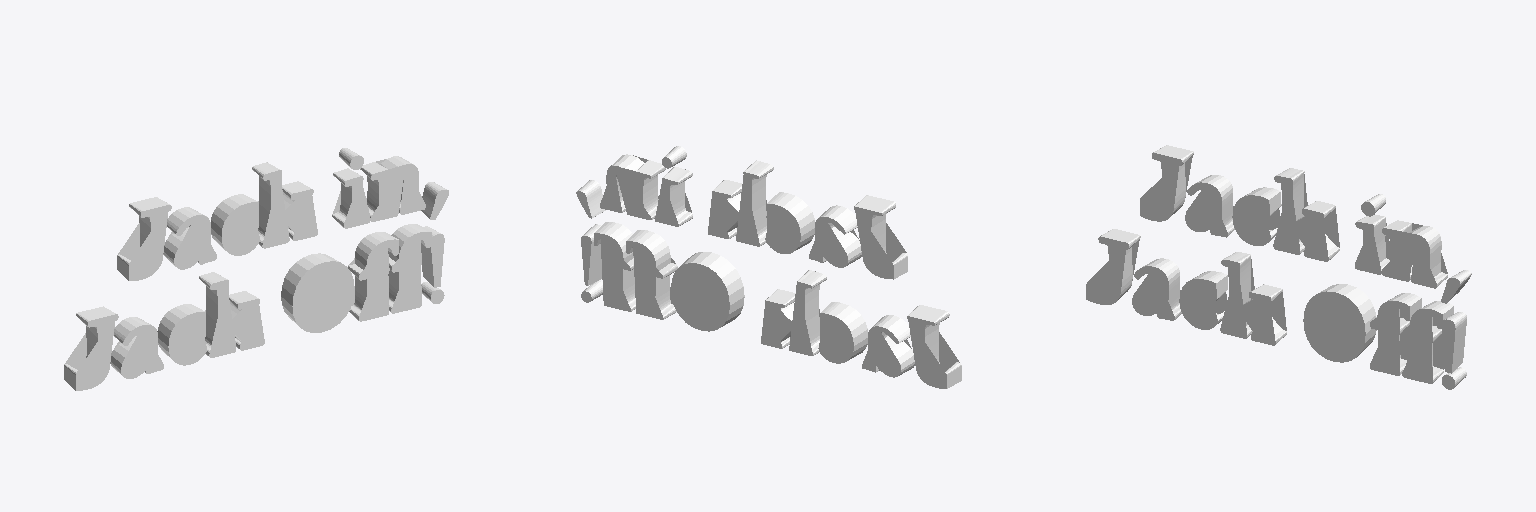
File: jackin_text.obj
3 renders of one model, left to right at view 1: azimuth 30°, elevation 25°; view 2: azimuth 150°, elevation 25°; view 3: azimuth 330°, elevation 25°, orthographic.
Visible parts, largest first — view 1: typeMesh1; view 2: typeMesh1; view 3: typeMesh1.
Boxes of the visible parts, x1,y1,x2,y2 form: typeMesh1: [64, 148, 448, 390]; typeMesh1: [576, 146, 961, 388]; typeMesh1: [1086, 145, 1471, 389].
Bounding box in the file's own units: 43.53 × 19.24 × 2.64.